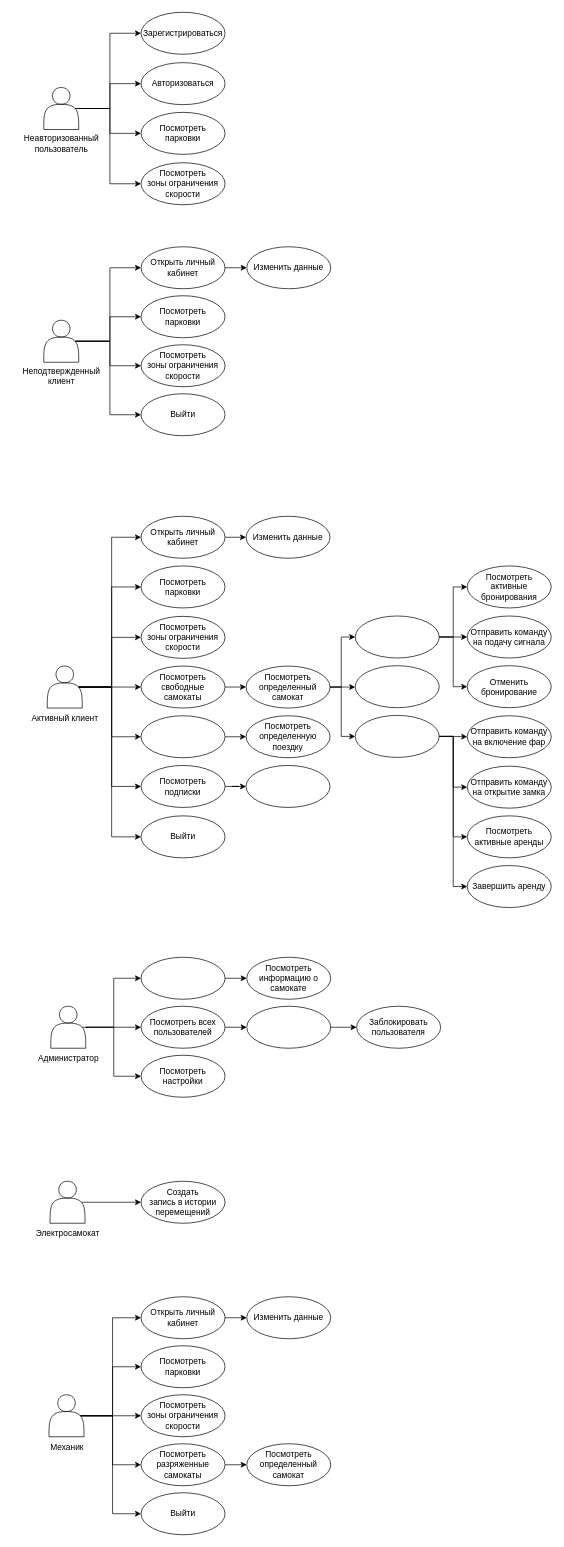
This 564x1547 diagram has some shape labels left out. Here are the shapes that lost their labels. From the top down, the centre of each, then its label:
the point at 397,636: Забронировать самокат
the point at 397,686: Посмотреть тариф
the point at 182,736: Посмотреть историю поездок
the point at 397,736: Взять самокат в аренду
the point at 287,786: Купить подписку
the point at 182,978: Посмотреть все самокаты
the point at 288,1027: Посмотреть информацию о пользователе
